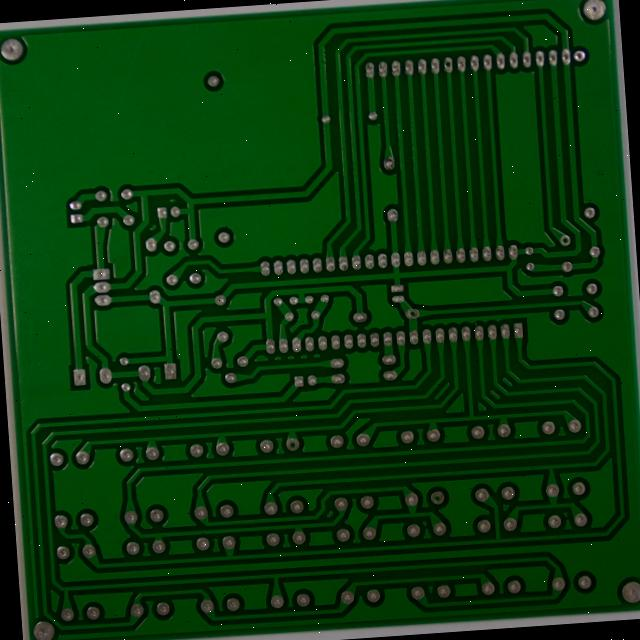missing_hole: (575, 237, 592, 255), (293, 449, 311, 466), (455, 56, 470, 74), (416, 314, 434, 329), (444, 504, 459, 522)
